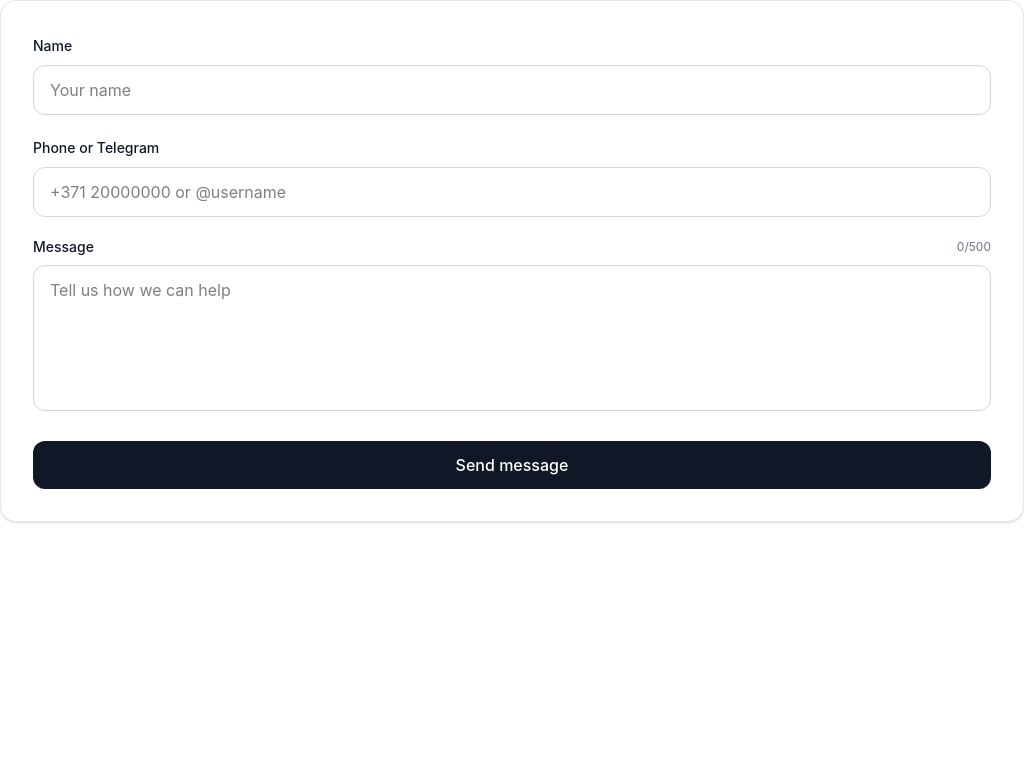
Test: ContactForm › clears the submit error when the user changes a field
Step 1. Type "John" into the field labelled "Name" → (512, 90), box [33,65,991,115]
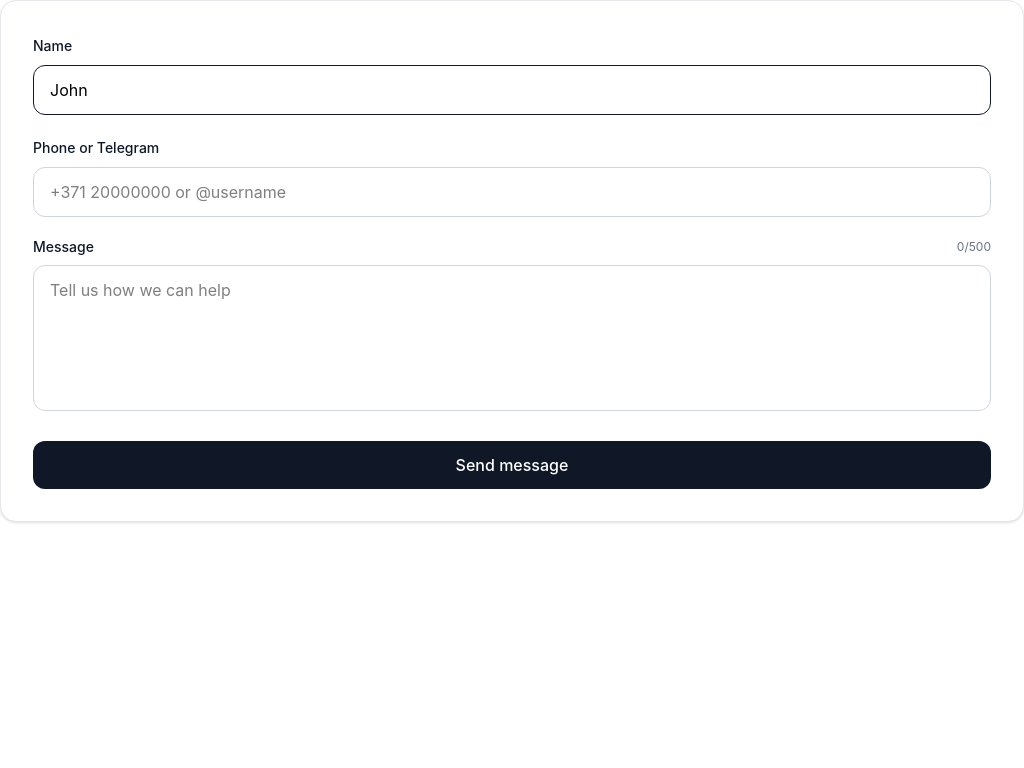
Step 2. Type "+371 20000000" into the field labelled "Phone or Telegram" → (512, 192), box [33,167,991,217]
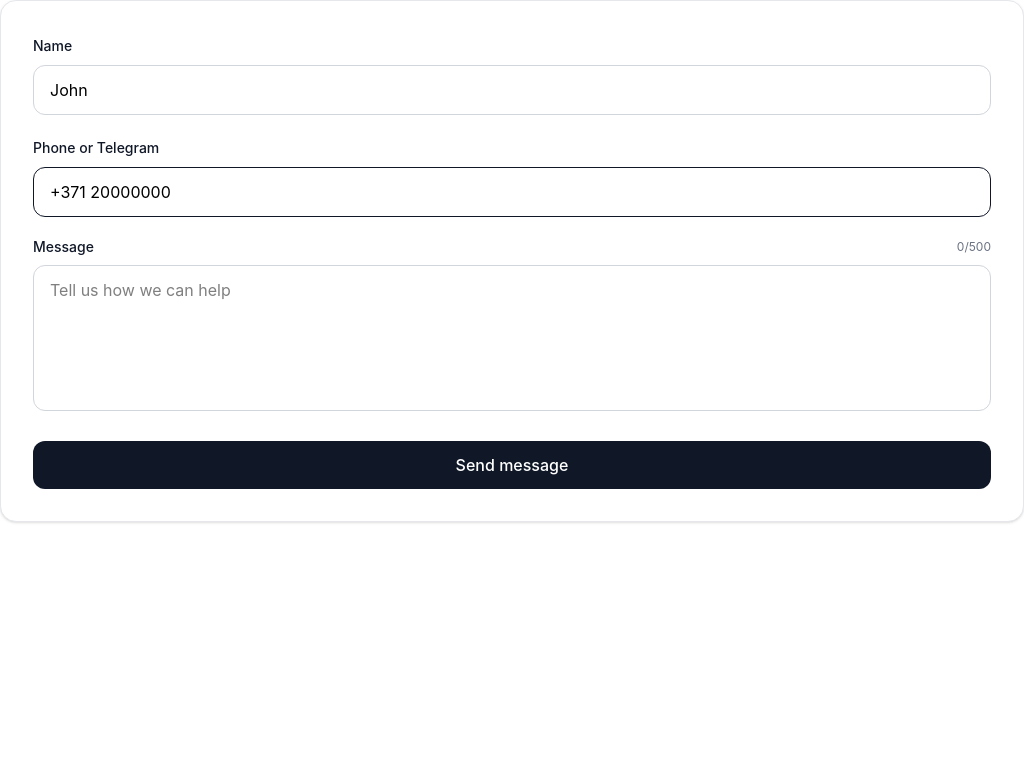
Step 3. Click the button "Send message" → click(512, 465), box [33,441,991,489]
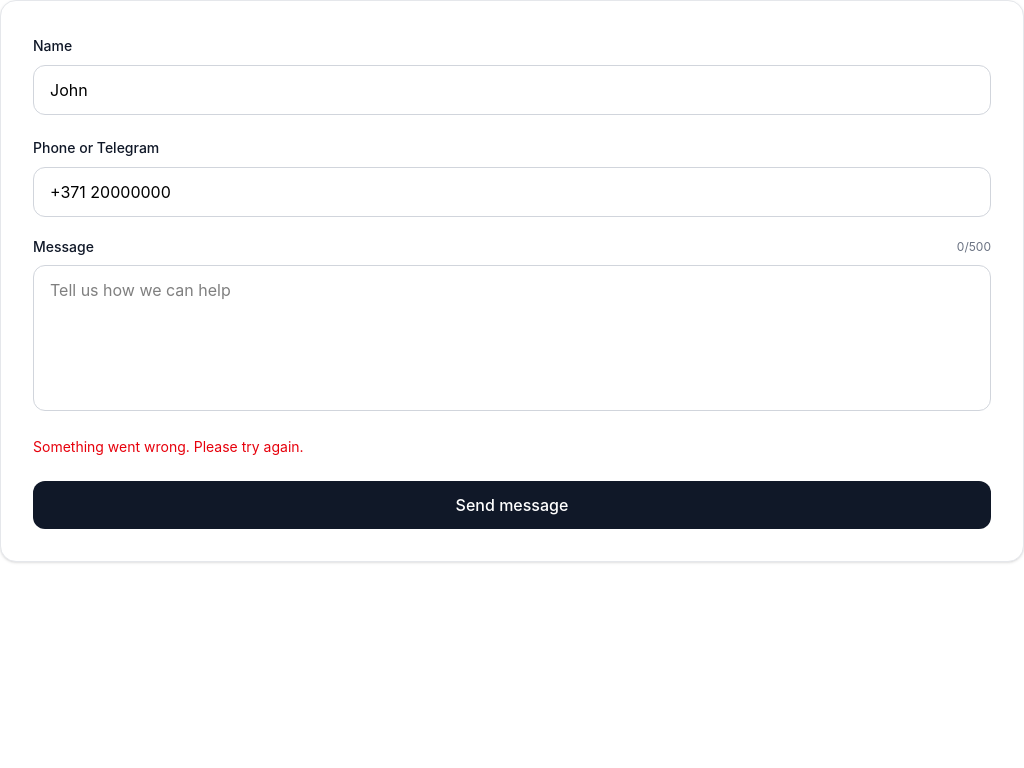
Check: the text "Something went wrong. Please try again." is shown, box [33,438,304,455]
Step 4. Type "n" into the field labelled "Name" → (512, 90), box [33,65,991,115]
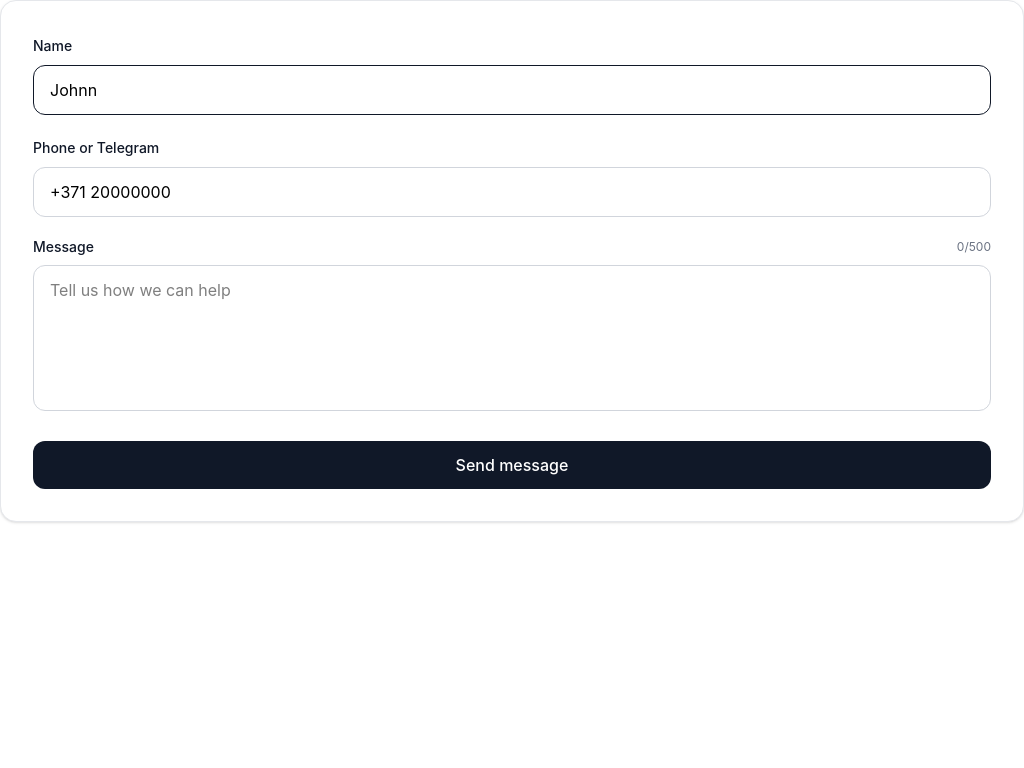
Check: the text "Something went wrong. Please try again." is gone
